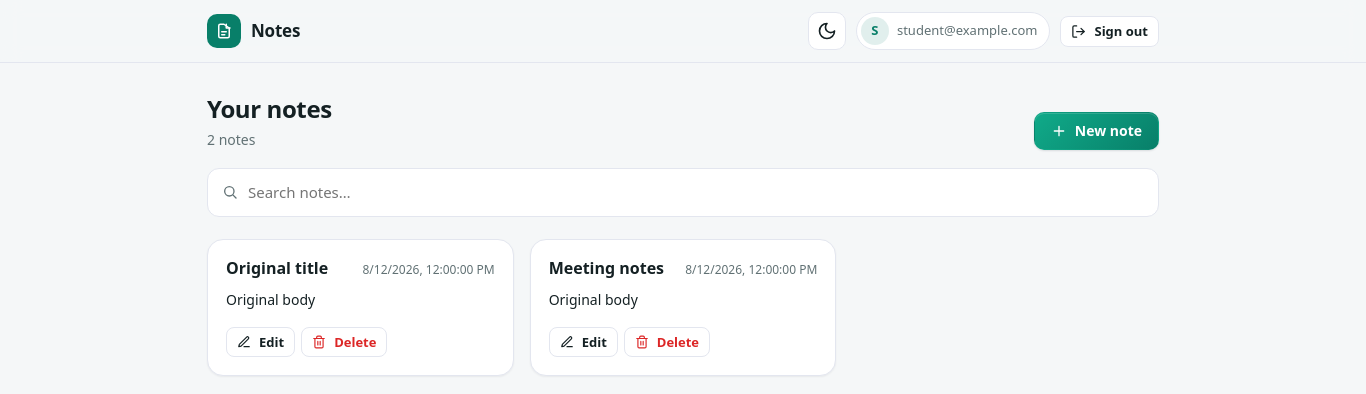
AppShell state transitions › loads notes once and filters them locally
Expected: the heading "Original title" is shown, 226,258 -> 328,279
Type "meeting" into the search field labelled "Search notes".
click(696, 192); type("meeting")  # box 248,169 -> 1144,216
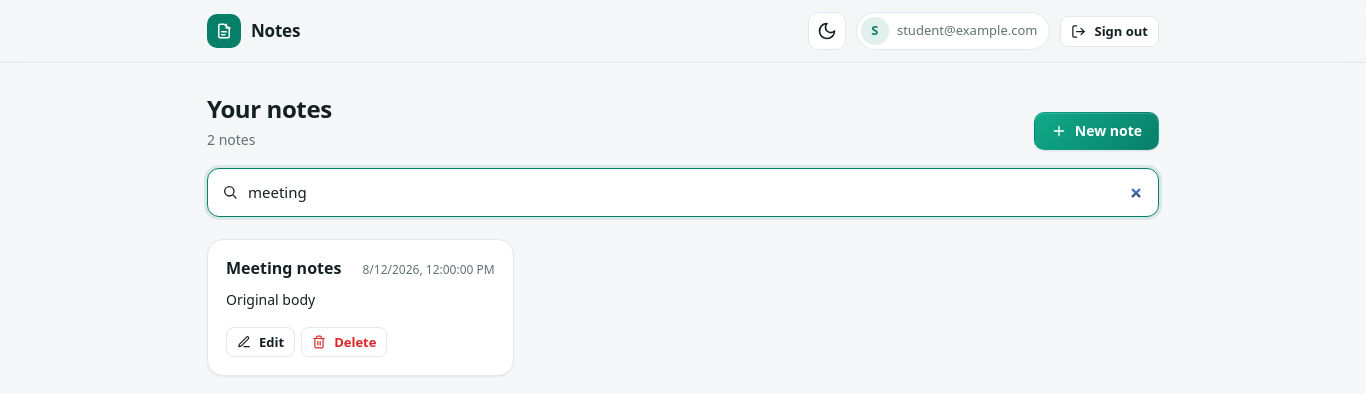
Expected: the heading "Meeting notes" is shown, 226,258 -> 341,279
Now the heading "Original title" is gone
